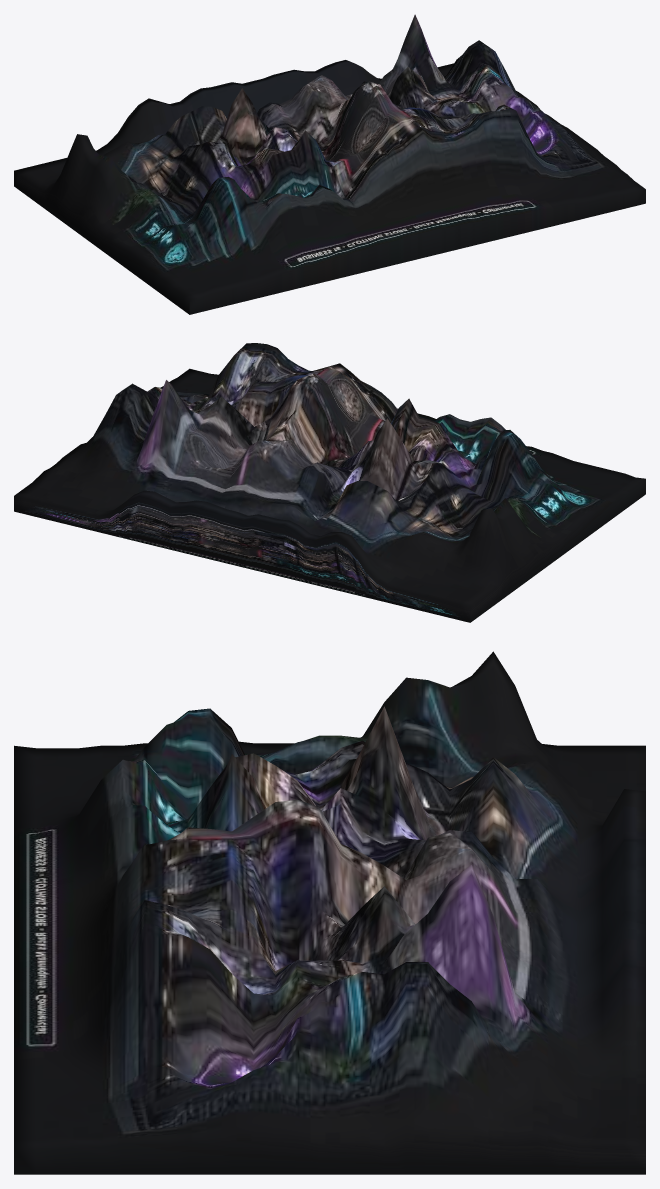
The model's file is BUSINESS_16_Clothing_Store.glb.
3 renders of one model, top to bottom at view 1: azimuth 30°, elevation 25°; view 2: azimuth 150°, elevation 25°; view 3: azimuth 270°, elevation 25°, orthographic. The views are drawn at different scales.
Visible parts, largest first — view 1: BUSINESS_16_Clothing_Store; view 2: BUSINESS_16_Clothing_Store; view 3: BUSINESS_16_Clothing_Store.
Part boxes in pixels (x1,y1,x2,y2): BUSINESS_16_Clothing_Store: [14, 14, 645, 314]; BUSINESS_16_Clothing_Store: [14, 343, 645, 622]; BUSINESS_16_Clothing_Store: [14, 651, 645, 1174].
Bounding box in the file's own units: 2 × 0.51 × 1.33.
1 material, 1 textured.
